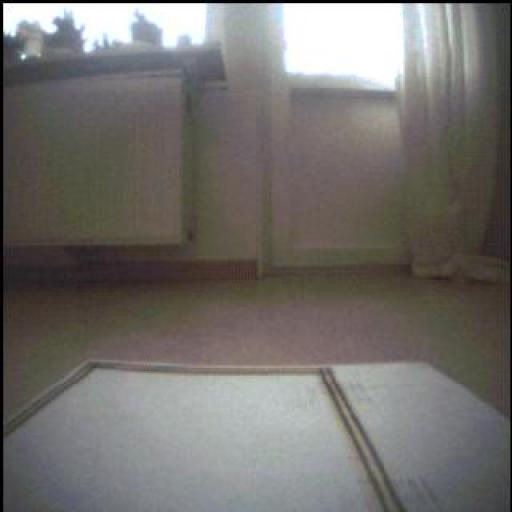Pad: (1, 349, 505, 512)
